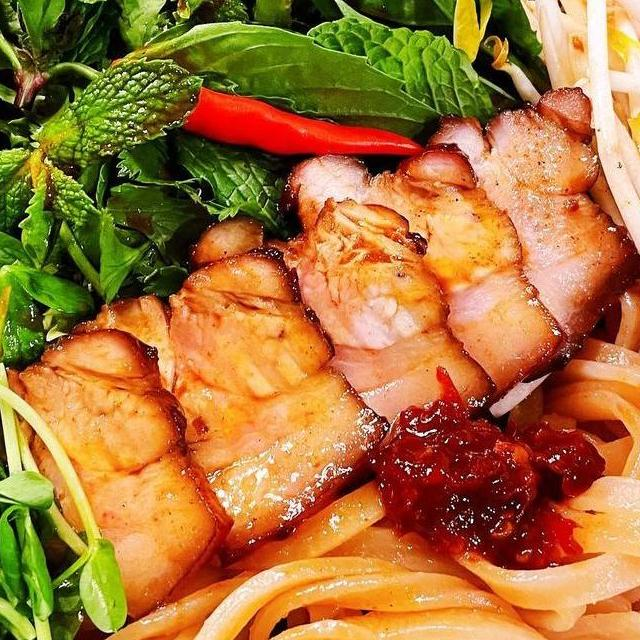banh da: (587, 0, 640, 117)
mi: (72, 462, 576, 640), (415, 280, 640, 640)
mi quang: (0, 33, 640, 640)
thit heo: (58, 236, 396, 558), (184, 187, 504, 453), (275, 136, 576, 414), (0, 321, 242, 627), (410, 81, 640, 372)
